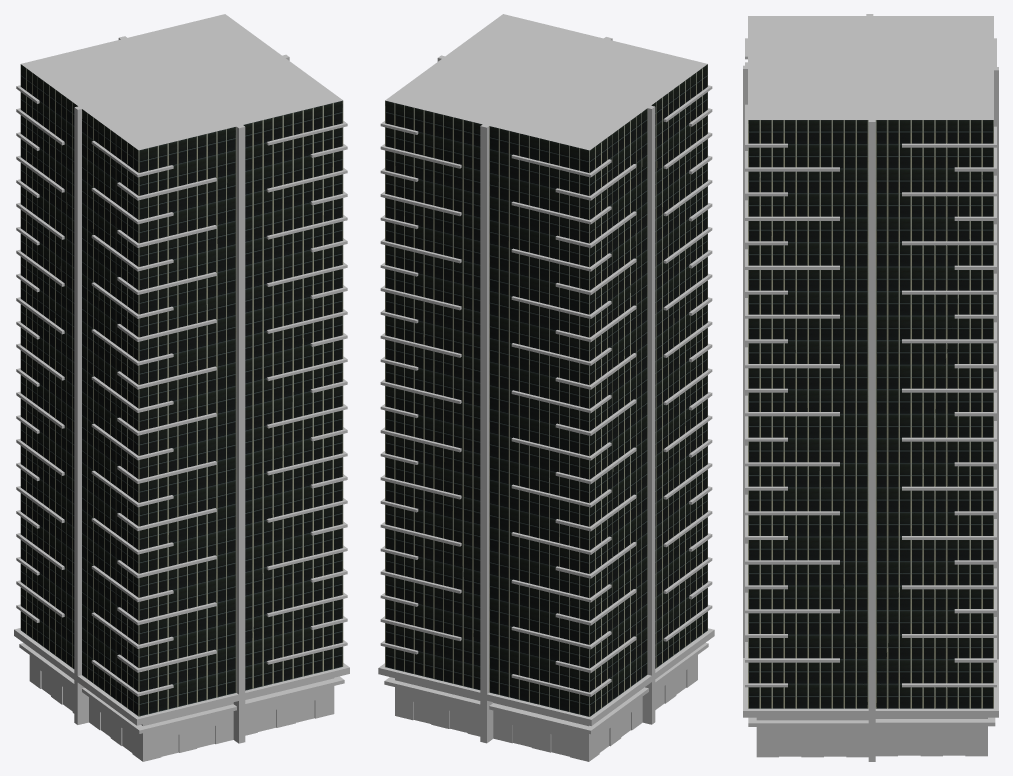
3 views of the same model, side by side, from view 1: azimuth 30°, elevation 25°; view 2: azimuth 150°, elevation 25°; view 3: azimuth 270°, elevation 25° (orthographic). The views are drawn at different scales.
Parts seen in each view (by area): view 1: BC-038; view 2: BC-038; view 3: BC-038.
Part boxes in pixels (x1,y1,x2,y2): BC-038: [14, 14, 349, 761]; BC-038: [378, 14, 714, 761]; BC-038: [743, 14, 998, 761].
Size of what is drawn, in the model's own units: 31.21 by 86.21 by 31.21.
